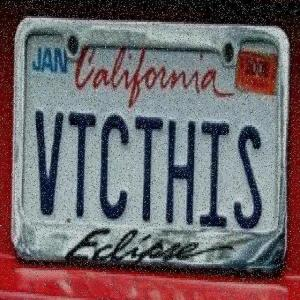Plate: (3, 5, 292, 292)
